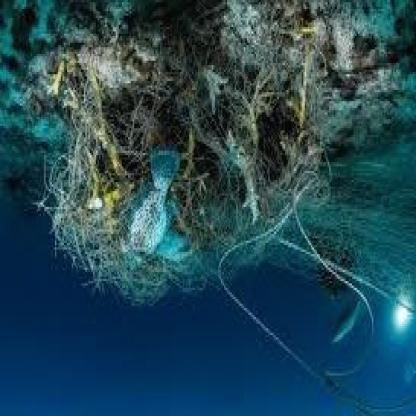net: (46, 18, 338, 313)
